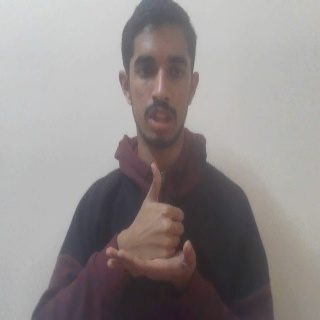Face: (117, 1, 201, 150)
Help: (104, 159, 201, 285)
